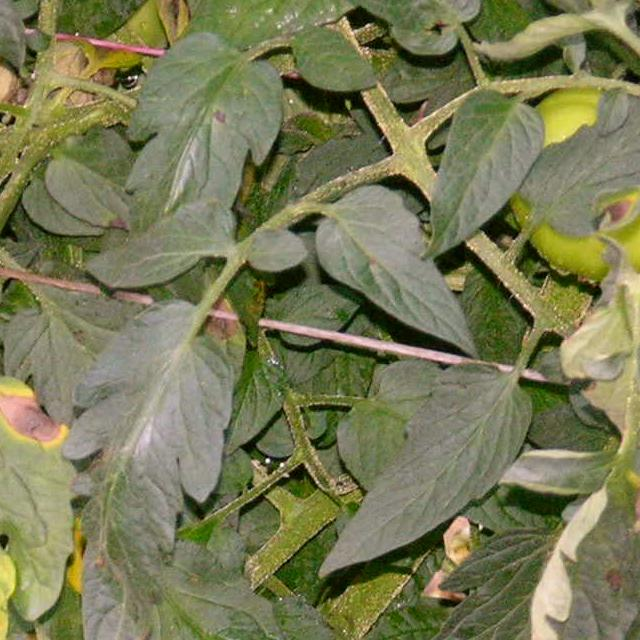Tomato leaf: (74, 310, 199, 640), (324, 373, 508, 573), (305, 201, 496, 366), (0, 507, 33, 640)
